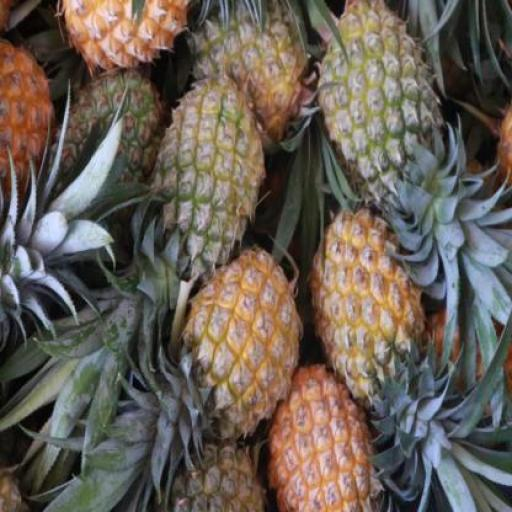------------------------------: (320, 2, 438, 216), (156, 83, 262, 278), (192, 2, 310, 146)
Pineapple - v8 v1: (310, 215, 419, 410), (183, 257, 290, 440), (267, 365, 382, 512), (0, 32, 50, 227)
